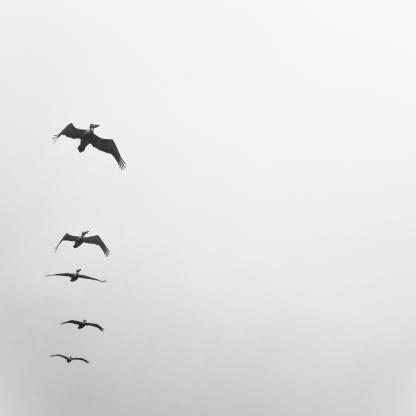bird: (52, 123, 127, 171), (54, 230, 110, 258), (44, 268, 107, 284), (60, 319, 104, 333), (50, 354, 90, 365)
